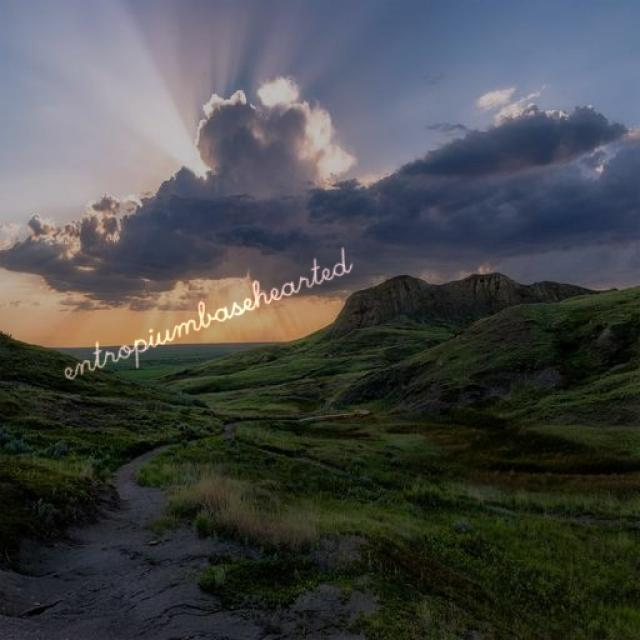watermark: (59, 242, 353, 385)
